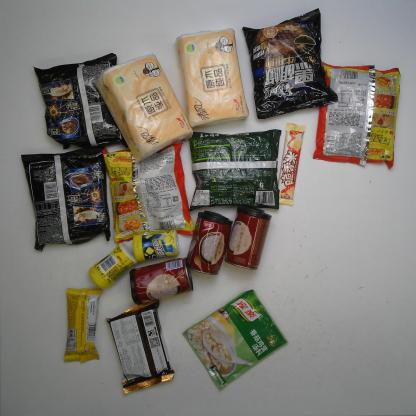Canned Food: (128, 257, 194, 306), (184, 211, 233, 275), (223, 206, 272, 270)
Chocolate: (62, 288, 102, 362), (272, 123, 305, 207)
Dessert: (106, 299, 174, 393)
Gum: (88, 241, 137, 290), (132, 228, 180, 262)
Instant Noodles: (242, 7, 338, 120), (21, 144, 111, 252), (33, 52, 132, 150), (99, 142, 193, 245), (313, 59, 401, 169), (188, 129, 282, 211)
Seasoner: (182, 289, 288, 390)
Tissue: (94, 54, 194, 164), (175, 28, 249, 129)
